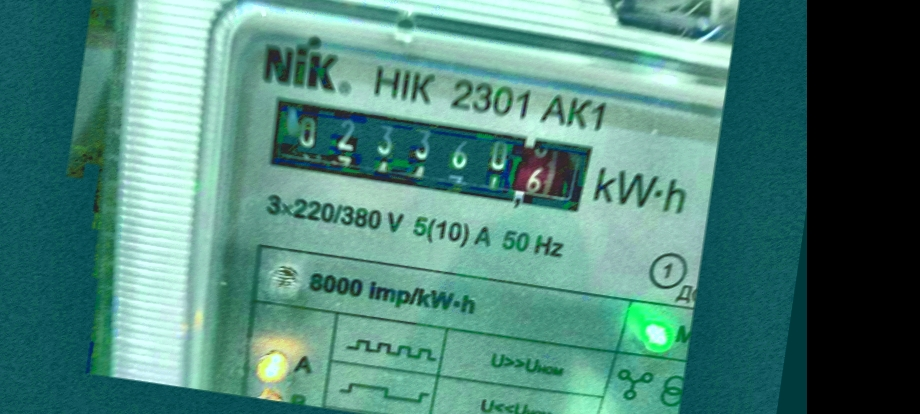0: (294, 112, 321, 150), (486, 136, 513, 174)
2: (334, 116, 360, 154)
3: (373, 122, 397, 159), (412, 126, 434, 163)
6: (448, 135, 472, 171), (523, 161, 545, 196)
screen: (252, 84, 613, 233)
